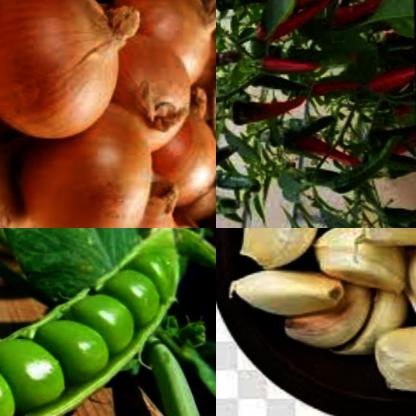garlic: (216, 228, 416, 408)
hot pepper: (314, 128, 411, 207), (223, 85, 314, 134), (255, 0, 340, 46), (287, 125, 367, 173), (251, 49, 325, 86), (325, 0, 385, 34), (300, 72, 359, 104), (216, 139, 238, 192), (216, 41, 237, 80), (216, 0, 278, 12)
onion: (18, 89, 158, 228), (0, 0, 132, 141), (101, 26, 195, 150), (114, 0, 216, 80), (144, 104, 216, 208), (82, 193, 186, 228)
peas: (71, 286, 150, 356), (41, 315, 115, 388), (0, 322, 55, 416), (96, 260, 162, 328), (140, 246, 182, 302)
